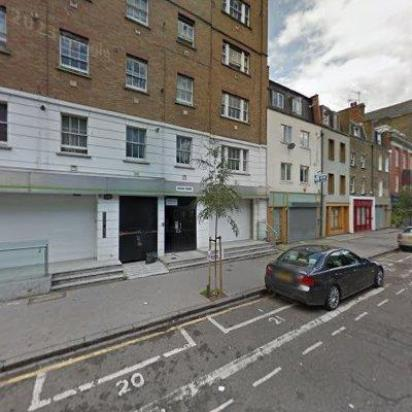stationary-car-onstreet: (264, 243, 384, 311), (396, 224, 412, 252)
